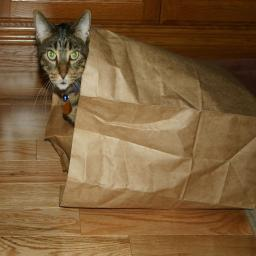catnose: (58, 70, 68, 80)
